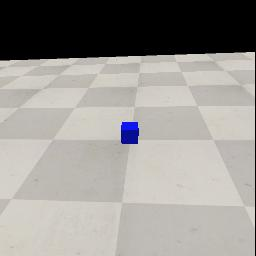box: (121, 122, 139, 144)
